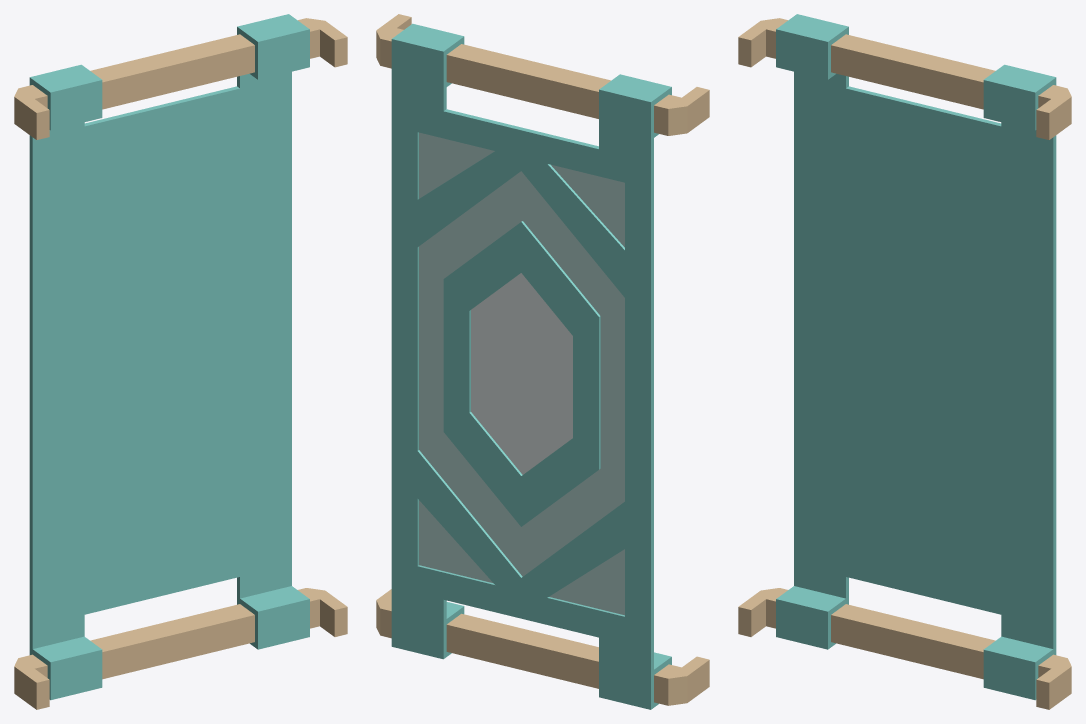
The model's file is opengameart-modular-temple-3d-models_19.glb.
3 renders of one model, left to right at view 1: azimuth 30°, elevation 25°; view 2: azimuth 150°, elevation 25°; view 3: azimuth 330°, elevation 25°, orthographic.
Parts seen in each view (by area): view 1: object3, object1, object2; view 2: object3, object1, object2; view 3: object3, object1, object2.
Part boxes in pixels (box(x1,y1,x2,y2)): object3: box(29, 14, 309, 700); object1: box(14, 18, 347, 139); object2: box(14, 588, 347, 709); object3: box(391, 23, 671, 709); object1: box(376, 14, 709, 135); object2: box(376, 589, 709, 705); object3: box(776, 14, 1056, 700); object1: box(738, 18, 1071, 139); object2: box(738, 588, 1071, 709).
Size of the model in its own units: 0.54 by 1.01 by 0.099.
